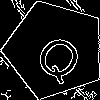Q: (30, 25, 92, 86)
